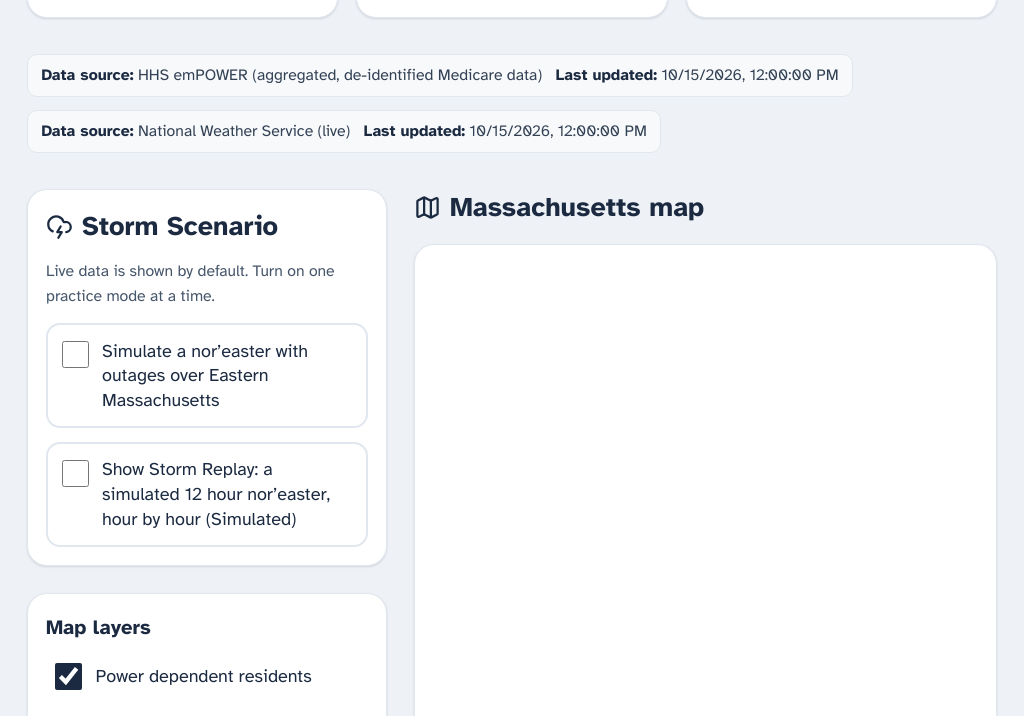
Test: PlannerPage › flags active-outage ZIPs in the ranked list when the scenario is on (Req 8.3)
The width and height of the screenshot is (1024, 716).
(page scrolled)
Step 1. Click the 1st checkbox → (75, 354), box [62,341,88,368]
(page scrolled)
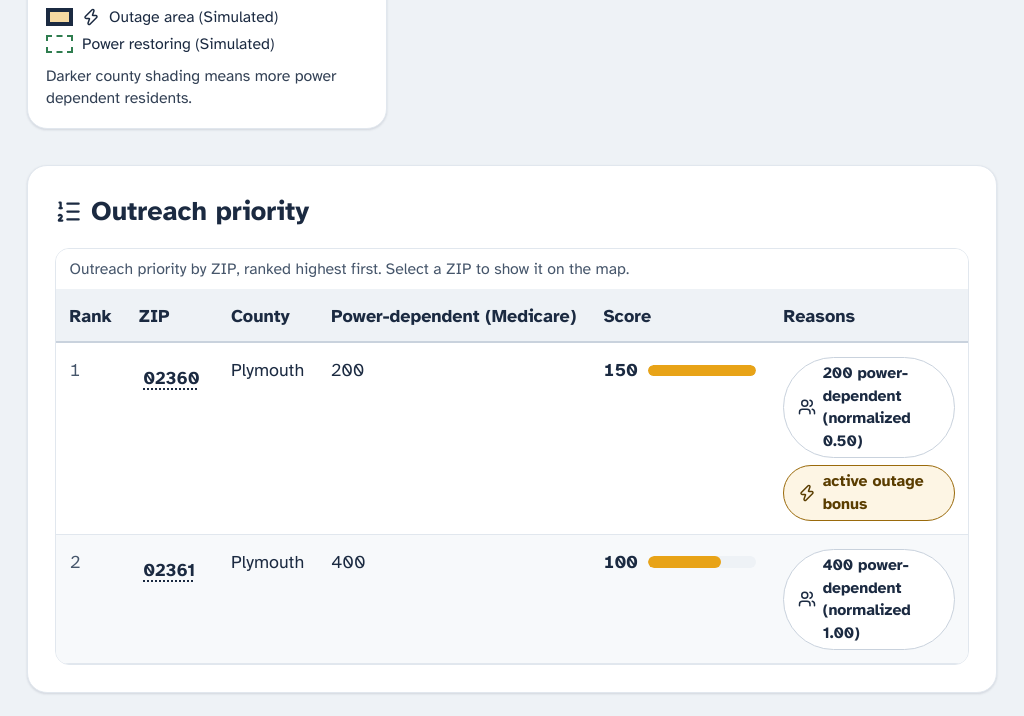
expect the text "active outage bonus" is shown: met, box [823,470,940,515]
